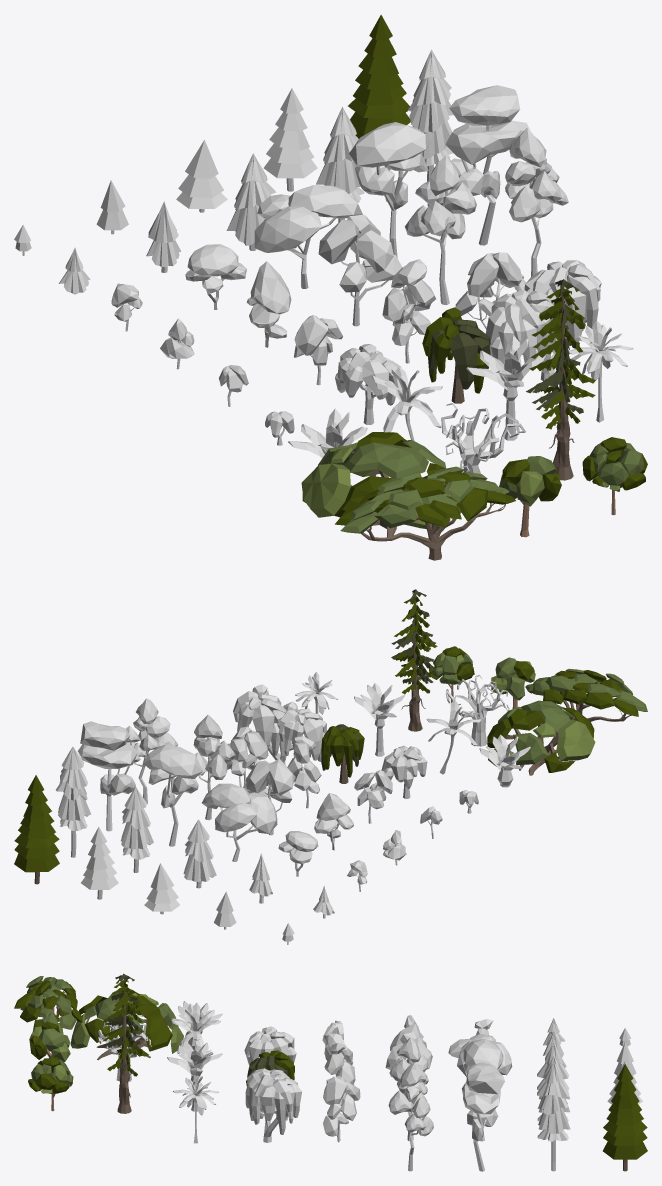
The model's file is tree_0105.dae.
3 renders of one model, top to bottom at view 1: azimuth 30°, elevation 25°; view 2: azimuth 150°, elevation 25°; view 3: azimuth 270°, elevation 25°, orthographic. The views are drawn at different scales.
Parts seen in each view (by area): view 1: tree_0004, tree_0001, Tree Type6 04 Model, Tree Type3 05 Model, tree_0003, Tree Type3 03 Model, Tree Type3 04 Model, tree_0105, Tree Type4 03 Model, Tree Type4 05 Model, Tree Type4 04 Model, tree_0603 (+23 smaller); view 2: tree_0001, Tree Type6 04 Model, tree_0004, Tree Type3 05 Model, Tree Type3 03 Model, tree_0105, tree_0003, Tree Type3 04 Model, Tree Type2 05 Model, Tree Type4 05 Model, Tree Type4 04 Model, tree_0603 (+19 smaller); view 3: tree_0001, Tree Type6 04 Model, tree_0105, tree_0003, tree_0004, Tree Type3 05 Model, Tree Type4 05 Model, Tree Type2 05 Model, Tree Type5 04 Model, tree_0006, tree_0005, Tree Type6 02 Model (+15 smaller).
Part boxes in pixels (x1,y1,x2,y2): tree_0004: (335,466,515,560); tree_0001: (301,432,449,537); Tree Type6 04 Model: (485,260,601,380); Tree Type3 05 Model: (445,85,529,245); tree_0003: (526,279,595,480); Tree Type3 03 Model: (254,185,362,288); Tree Type3 04 Model: (349,122,431,257); tree_0105: (348,14,410,138); Tree Type4 03 Model: (318,214,402,326); Tree Type4 05 Model: (505,127,568,276); Tree Type4 04 Model: (404,155,476,304); tree_0603: (422,307,490,403); tree_0001: (487,700,595,775); Tree Type6 04 Model: (233,684,326,764); tree_0004: (525,668,647,721); Tree Type3 05 Model: (77,721,137,831); Tree Type3 03 Model: (202,783,277,861); tree_0105: (14,775,59,884); tree_0003: (391,589,437,731); Tree Type3 04 Model: (143,744,202,846); Tree Type2 05 Model: (56,747,91,857); Tree Type4 05 Model: (126,698,178,803); Tree Type4 04 Model: (193,715,235,820); tree_0603: (321,724,364,783); tree_0001: (70,991,183,1060); Tree Type6 04 Model: (245,1068,301,1142); tree_0105: (603,1064,647,1171); tree_0003: (101,973,148,1113); tree_0004: (14,976,82,1051); Tree Type3 05 Model: (461,1062,504,1171); Tree Type4 05 Model: (388,1062,433,1171); Tree Type2 05 Model: (537,1061,570,1171); Tree Type5 04 Model: (323,1075,360,1142); tree_0006: (28,1057,73,1111); tree_0005: (29,1021,70,1062); Tree Type6 02 Model: (244,1028,296,1065).
Size of the model in its own units: 22.31 by 35.44 by 8.7.
